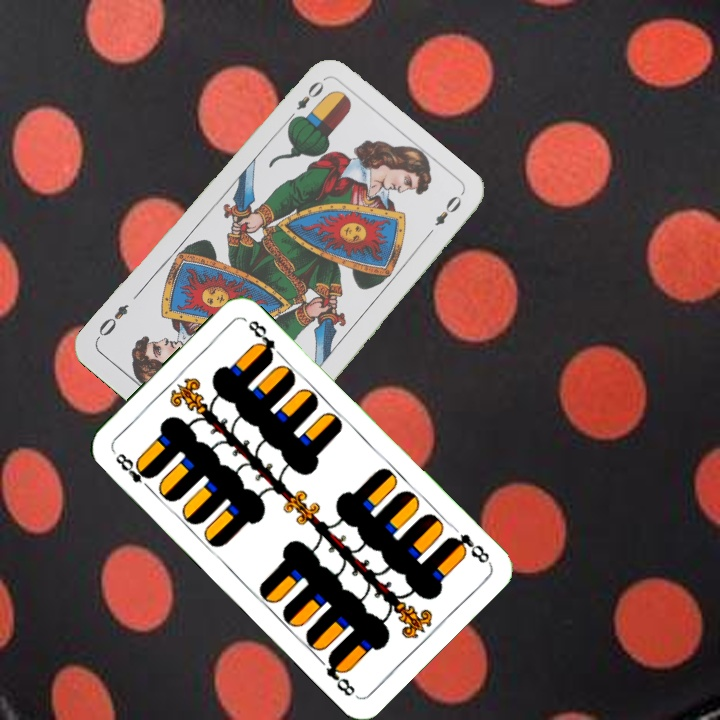E8: (111, 449, 156, 494), (443, 530, 492, 566)
EO: (283, 76, 327, 126)
